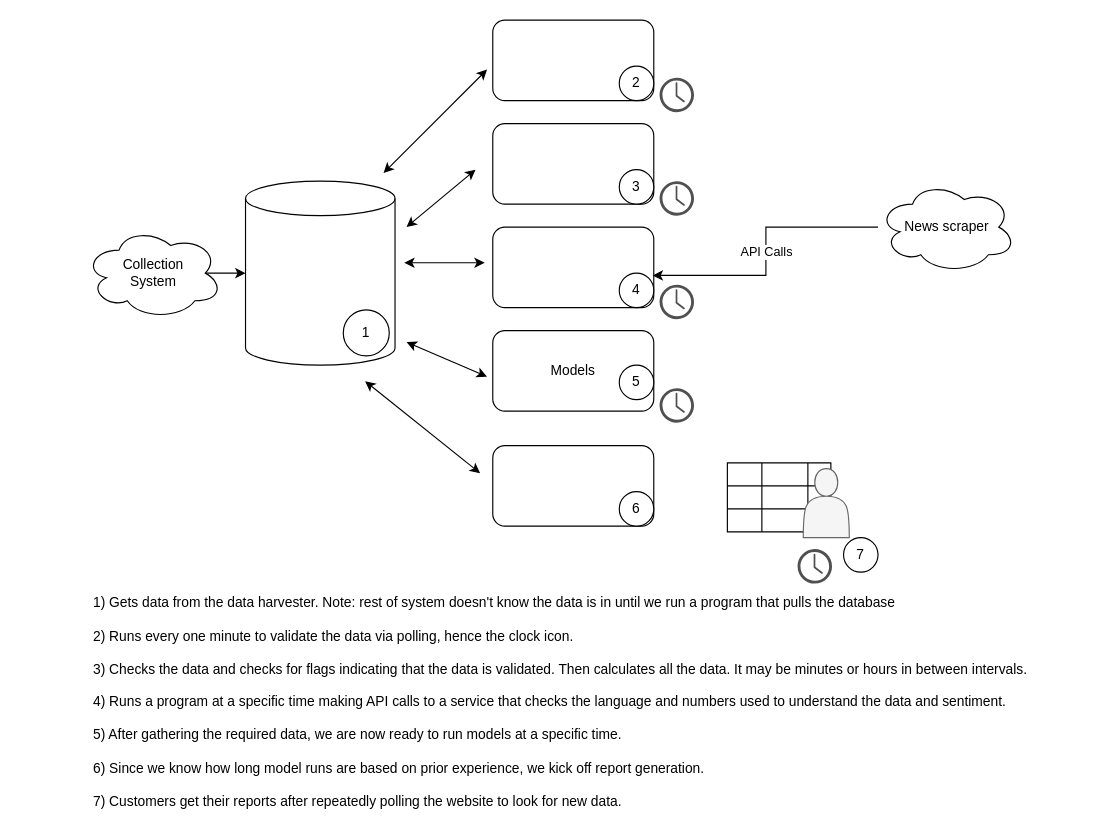
This 1120x837 diagram has some shape labels left out. The shapes that lost their labels are listed below. From the top down, each one's box as (x1, y1, x2, y2) in pixels, then its label:
(492, 19, 654, 101): Validator Program
(492, 122, 654, 204): Aggregator
(244, 180, 395, 365): Shared Data store
(492, 226, 654, 308): Calculate Sentiment
(492, 444, 654, 526): Report Maker
